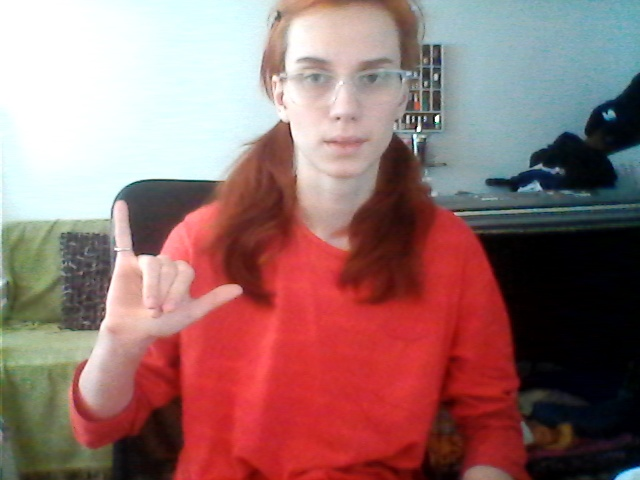kto: (83, 198, 247, 342)
